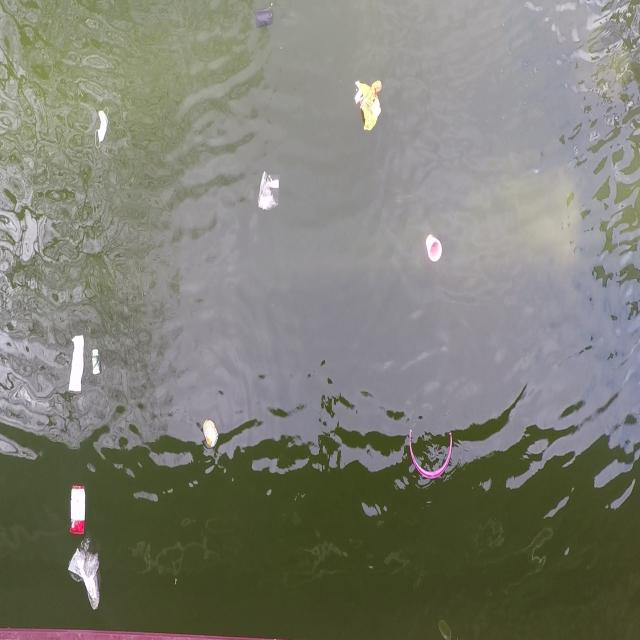Autre plastique: (66, 330, 87, 401)
Non plastique: (93, 104, 113, 153), (201, 412, 220, 453)
Sac plastique: (65, 544, 106, 616), (351, 74, 386, 137), (254, 164, 284, 218)
